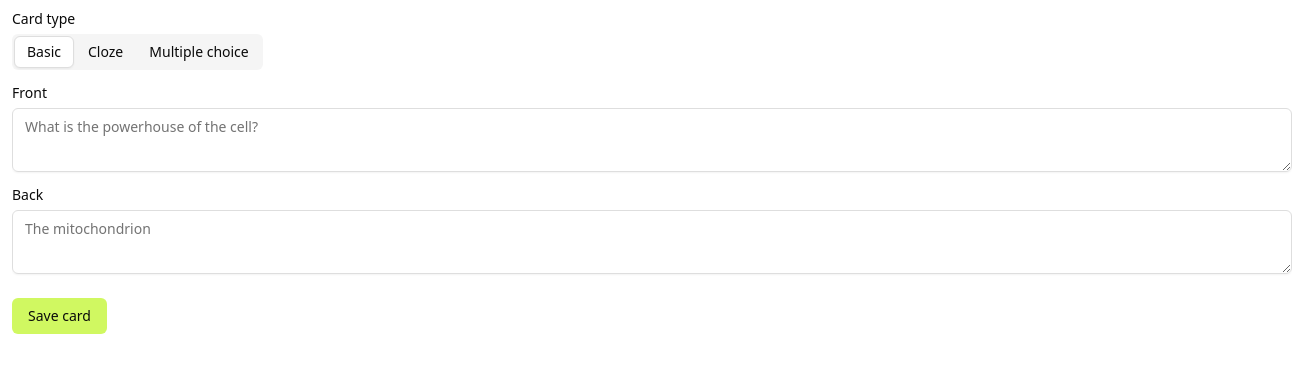
it: the other two kinds › refuses a basic card with an empty side
The image size is (1304, 379).
Type "Only a front" into the text box labelled "Front" at (652, 140), box [12,108,1292,172]
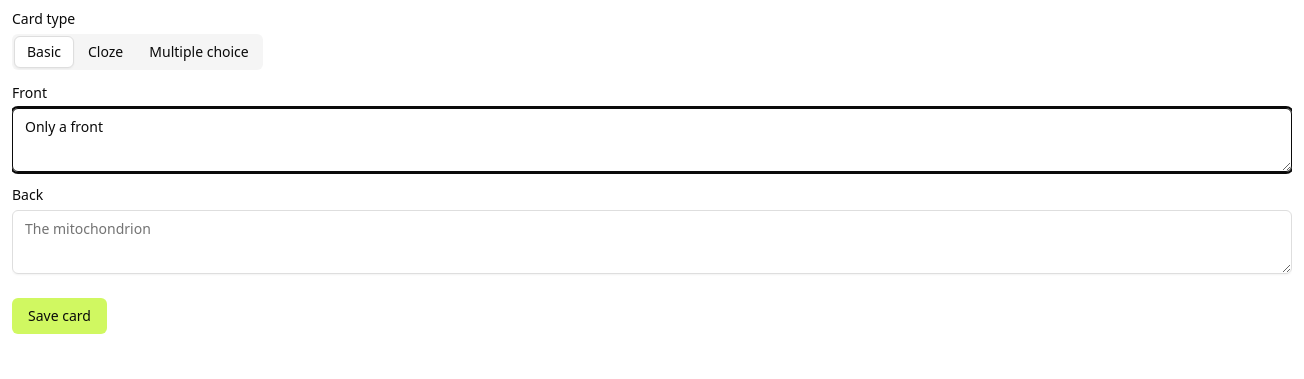
Click the button "Save card" at (59, 316), box [12,298,107,334]
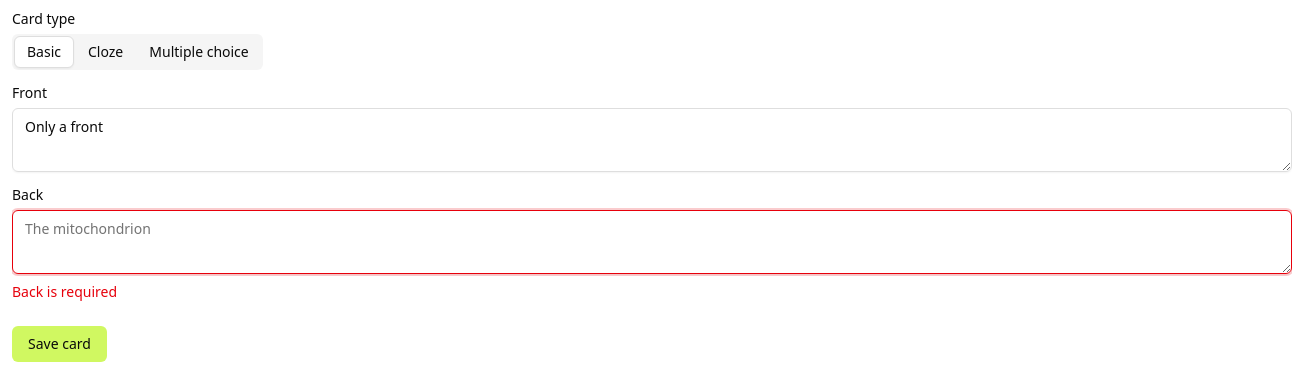
Expected: the message reads "Back is required", [12,282,117,301]
